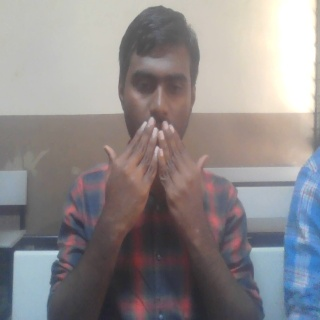Thank You: (91, 117, 220, 252)
